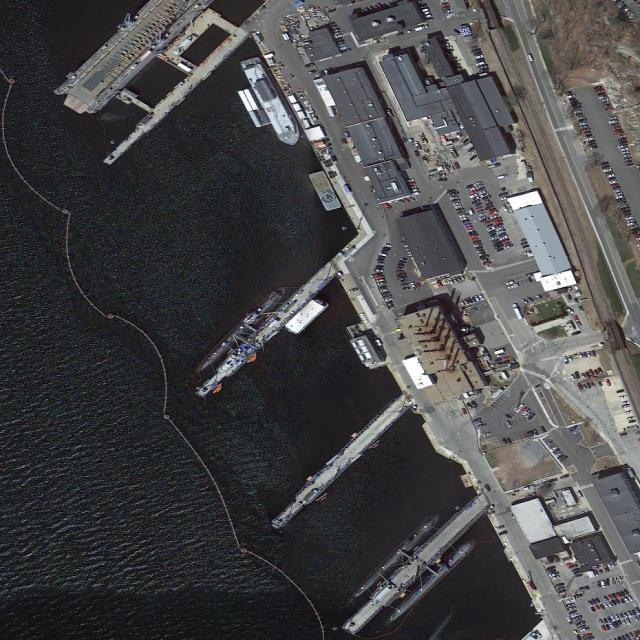Cargo: (239, 52, 305, 152)
Dock: (189, 259, 344, 405), (264, 392, 415, 535), (100, 23, 249, 167), (345, 495, 491, 636)
Submarine: (192, 283, 288, 376), (351, 511, 440, 599), (387, 536, 477, 623)
